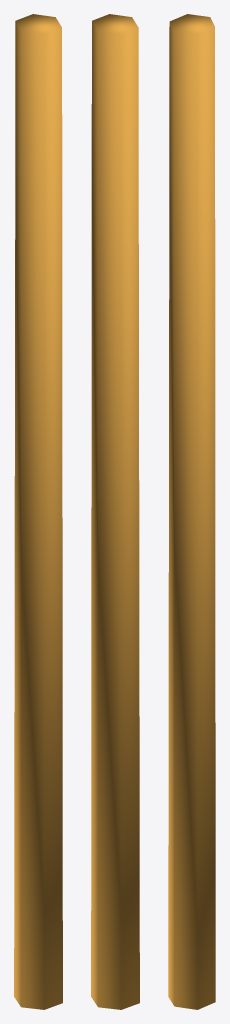
File: SM_EastLands_WoodenLamp_Rope.fbx
3 views of the same model, side by side, from view 1: azimuth 30°, elevation 25°; view 2: azimuth 210°, elevation 25°; view 3: azimuth 330°, elevation 25° (orthographic).
Visible parts, largest first — view 1: SM_EastLands_WoodenLamp_Rope_LOD0; view 2: SM_EastLands_WoodenLamp_Rope_LOD0; view 3: SM_EastLands_WoodenLamp_Rope_LOD0.
Part boxes in pixels (bbox=[...]): SM_EastLands_WoodenLamp_Rope_LOD0: bbox=[14, 14, 62, 1009]; SM_EastLands_WoodenLamp_Rope_LOD0: bbox=[91, 14, 139, 1009]; SM_EastLands_WoodenLamp_Rope_LOD0: bbox=[168, 14, 215, 1009].
Bounding box in the file's own units: 4.82 × 109 × 4.81.
